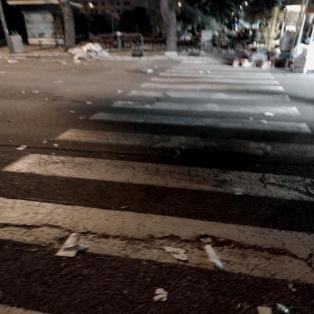Paso de Cebra: (69, 97, 313, 137)
